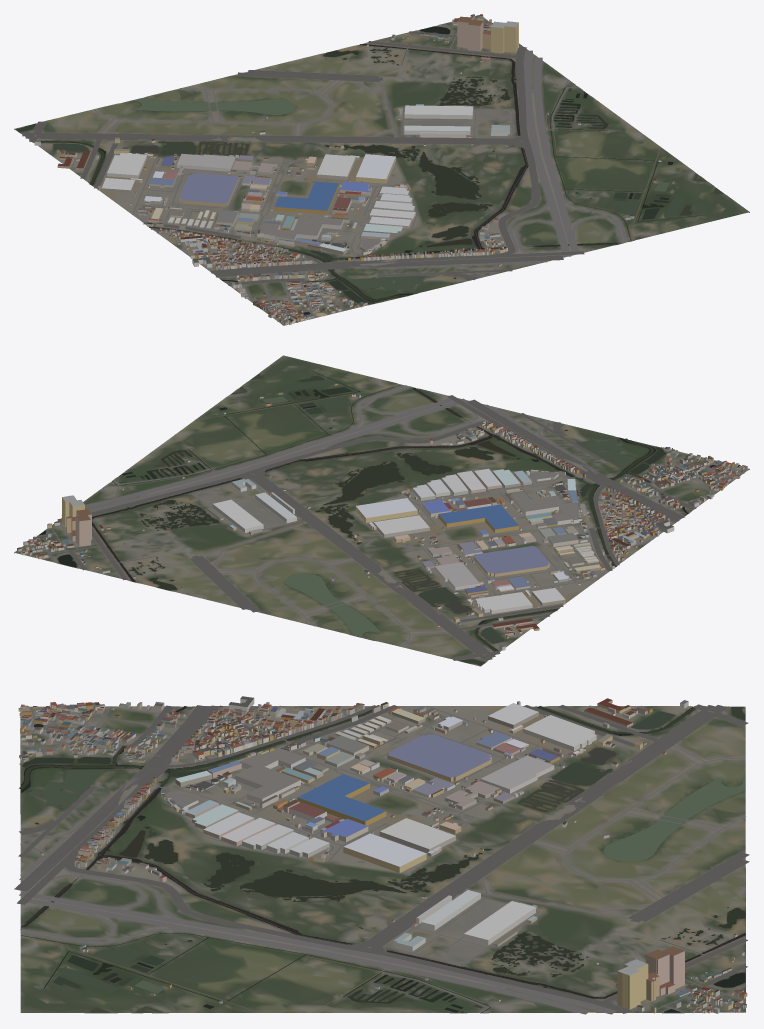
3 renders of one model, top to bottom at view 1: azimuth 30°, elevation 25°; view 2: azimuth 150°, elevation 25°; view 3: azimuth 270°, elevation 25°, orthographic. The views are drawn at different scales.
Visible parts, largest first — view 1: ground, buildings, roads, water; view 2: ground, buildings, roads, water; view 3: ground, buildings, roads, water.
Part boxes in pixels (<box>): ground: <box>14,15,749,325</box>; buildings: <box>34,14,674,325</box>; roads: <box>22,15,660,325</box>; water: <box>15,26,723,314</box>; ground: <box>14,355,749,666</box>; buildings: <box>17,383,747,650</box>; roads: <box>14,383,749,661</box>; water: <box>39,371,716,665</box>; ground: <box>20,706,745,1013</box>; buildings: <box>18,696,747,1013</box>; roads: <box>14,704,749,1014</box>; water: <box>19,706,745,1012</box>.
Size of the model in its own units: 1432 by 76.93 by 1423.
